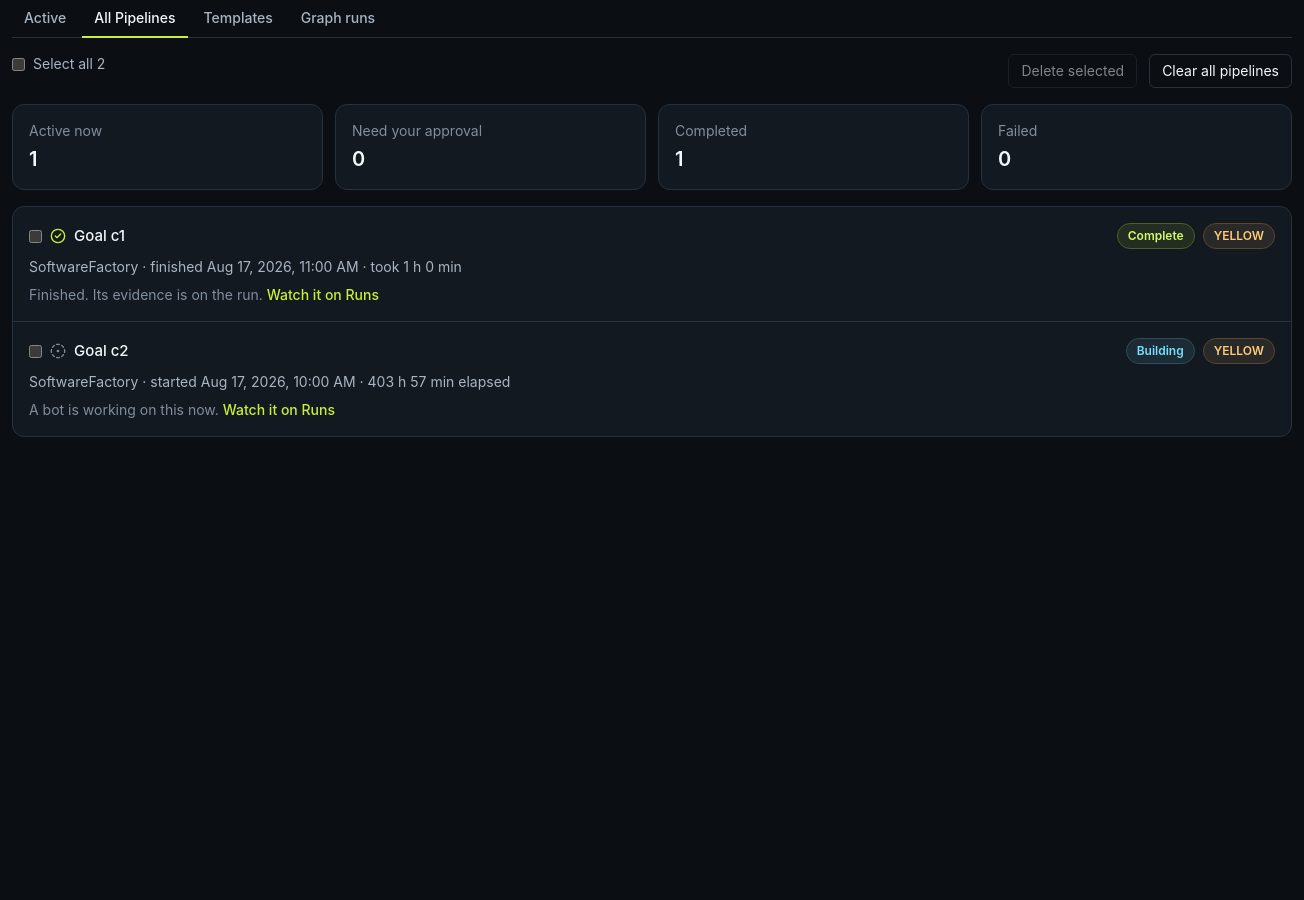
Test: PipelinesConsole › deletes only the pipelines ticked, and reports what the database kept
Check: the text "Goal c1" is shown, box [74,226,125,245]
Check: the button "Delete selected" is disabled, box [1008,54,1137,88]
Click the checkbox named "Select pipeline: Goal c1" at (36, 236), box [29,230,42,242]
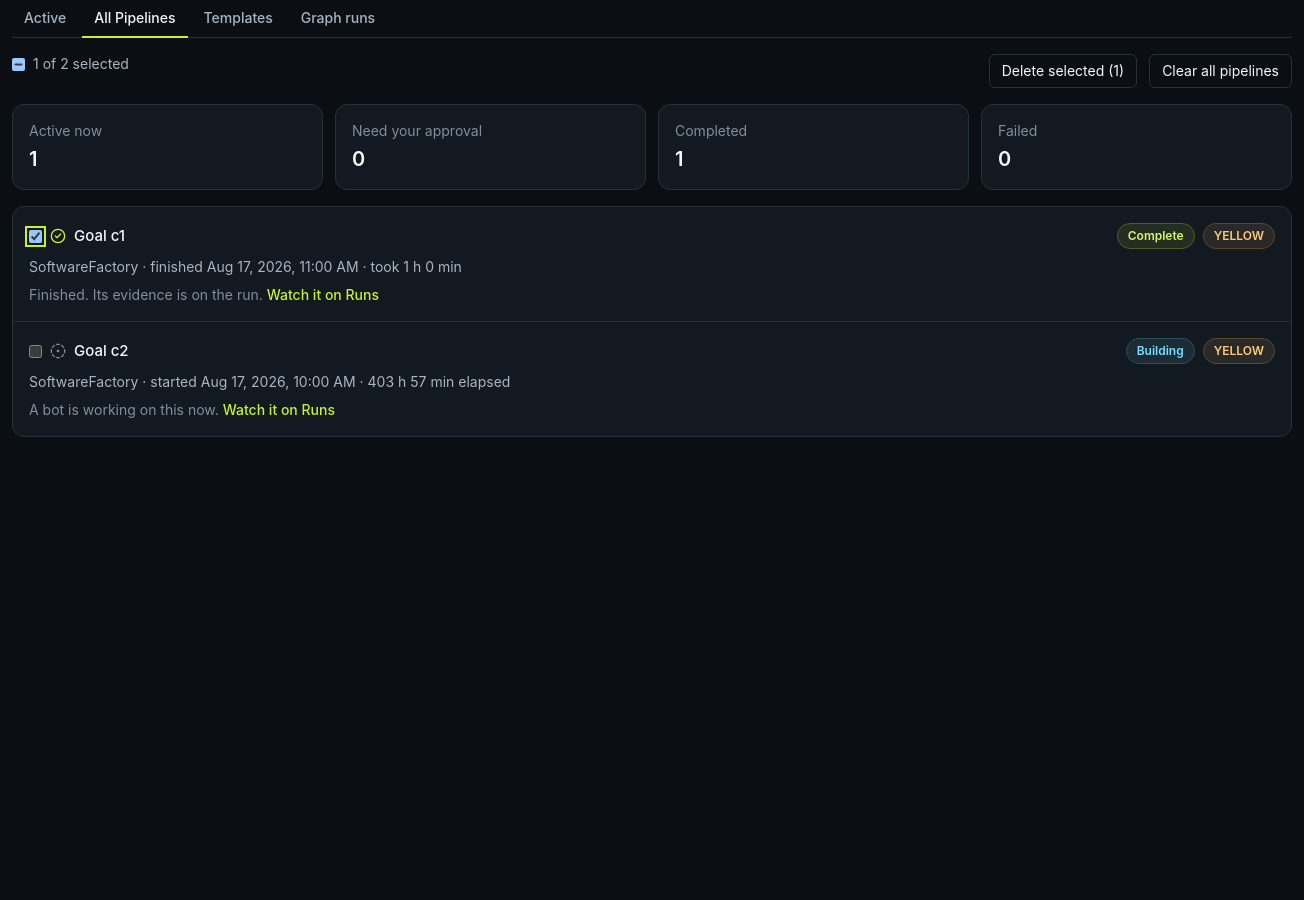
Click the checkbox named "Select pipeline: Goal c2" at (36, 351), box [29,344,42,358]
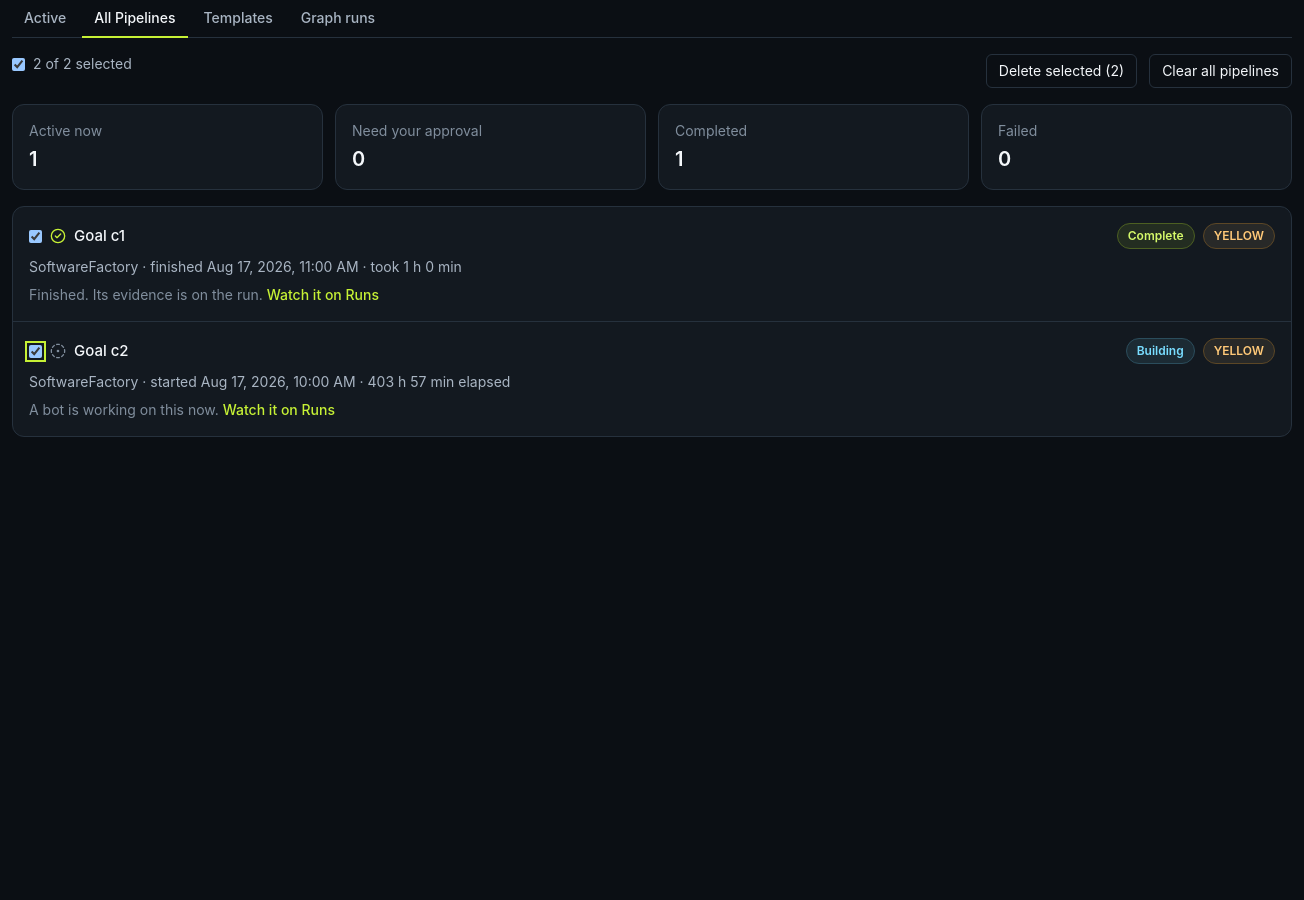
Click the button "Delete selected (2)" at (1061, 71), box [986,54,1137,88]
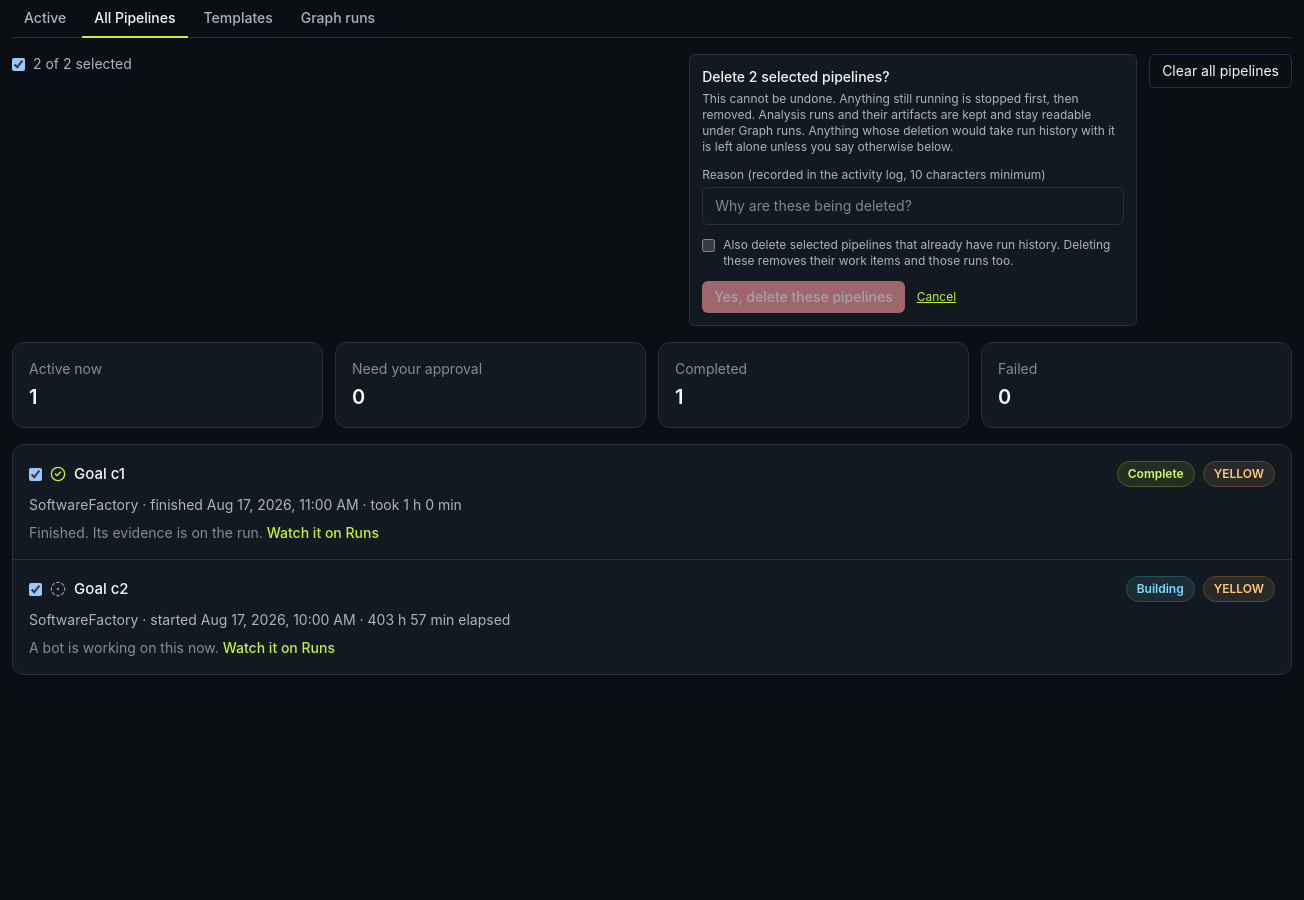
Check: the button "Yes, delete these pipelines" is disabled, box [702,281,905,313]
Type "tidying the pipelines list" into the field labelled "Reason (recorded in the activity log, 10 characters minimum)" at (913, 206), box [702,187,1124,225]
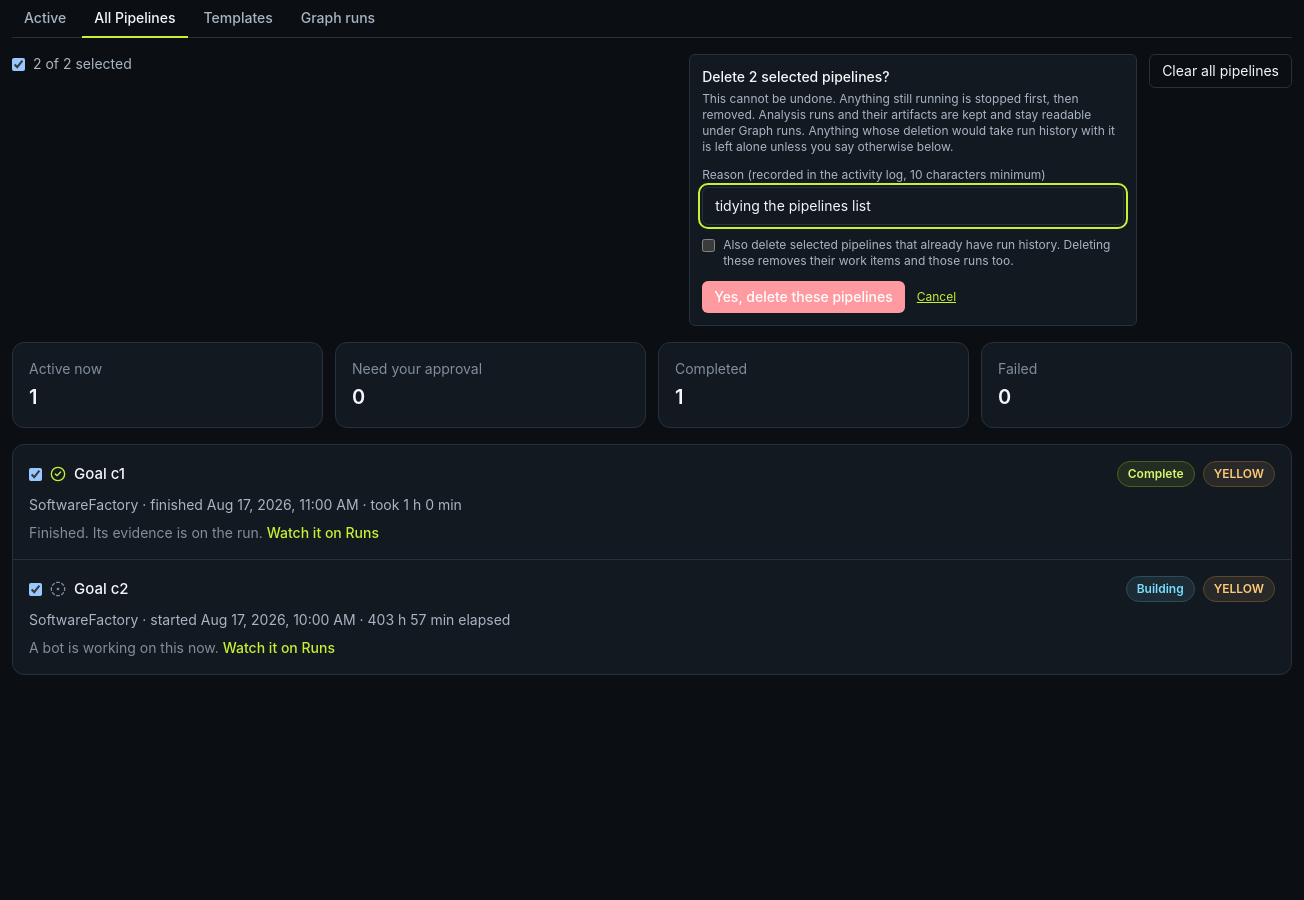
Check: the button "Yes, delete these pipelines" is enabled
Click the button "Yes, delete these pipelines" at (803, 297), box [702,281,905,313]
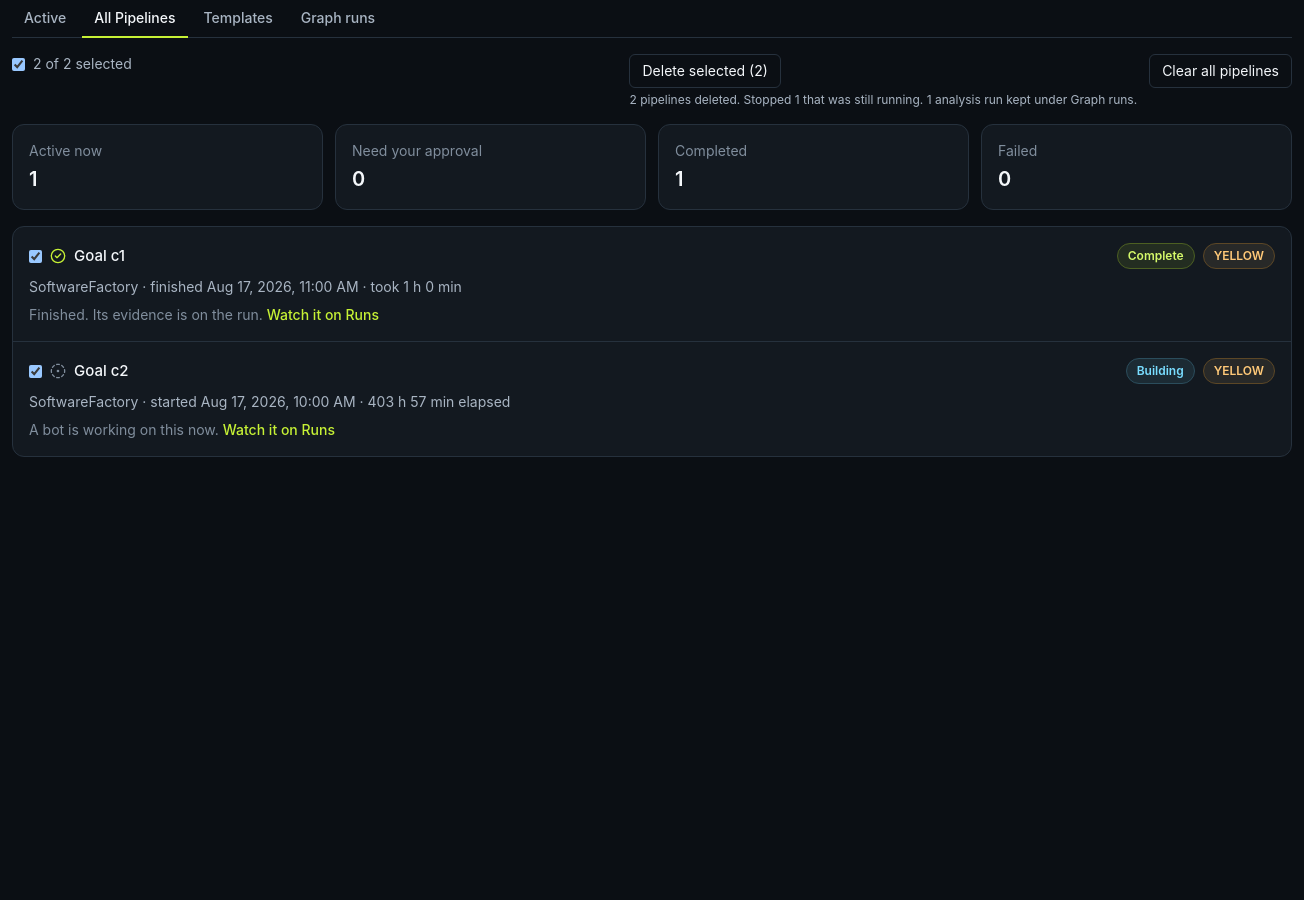
Check: the text "2 pipelines deleted. Stopped 1 that was still running. 1 analysis run kept under Graph runs." is shown, box [630,92,1137,107]
